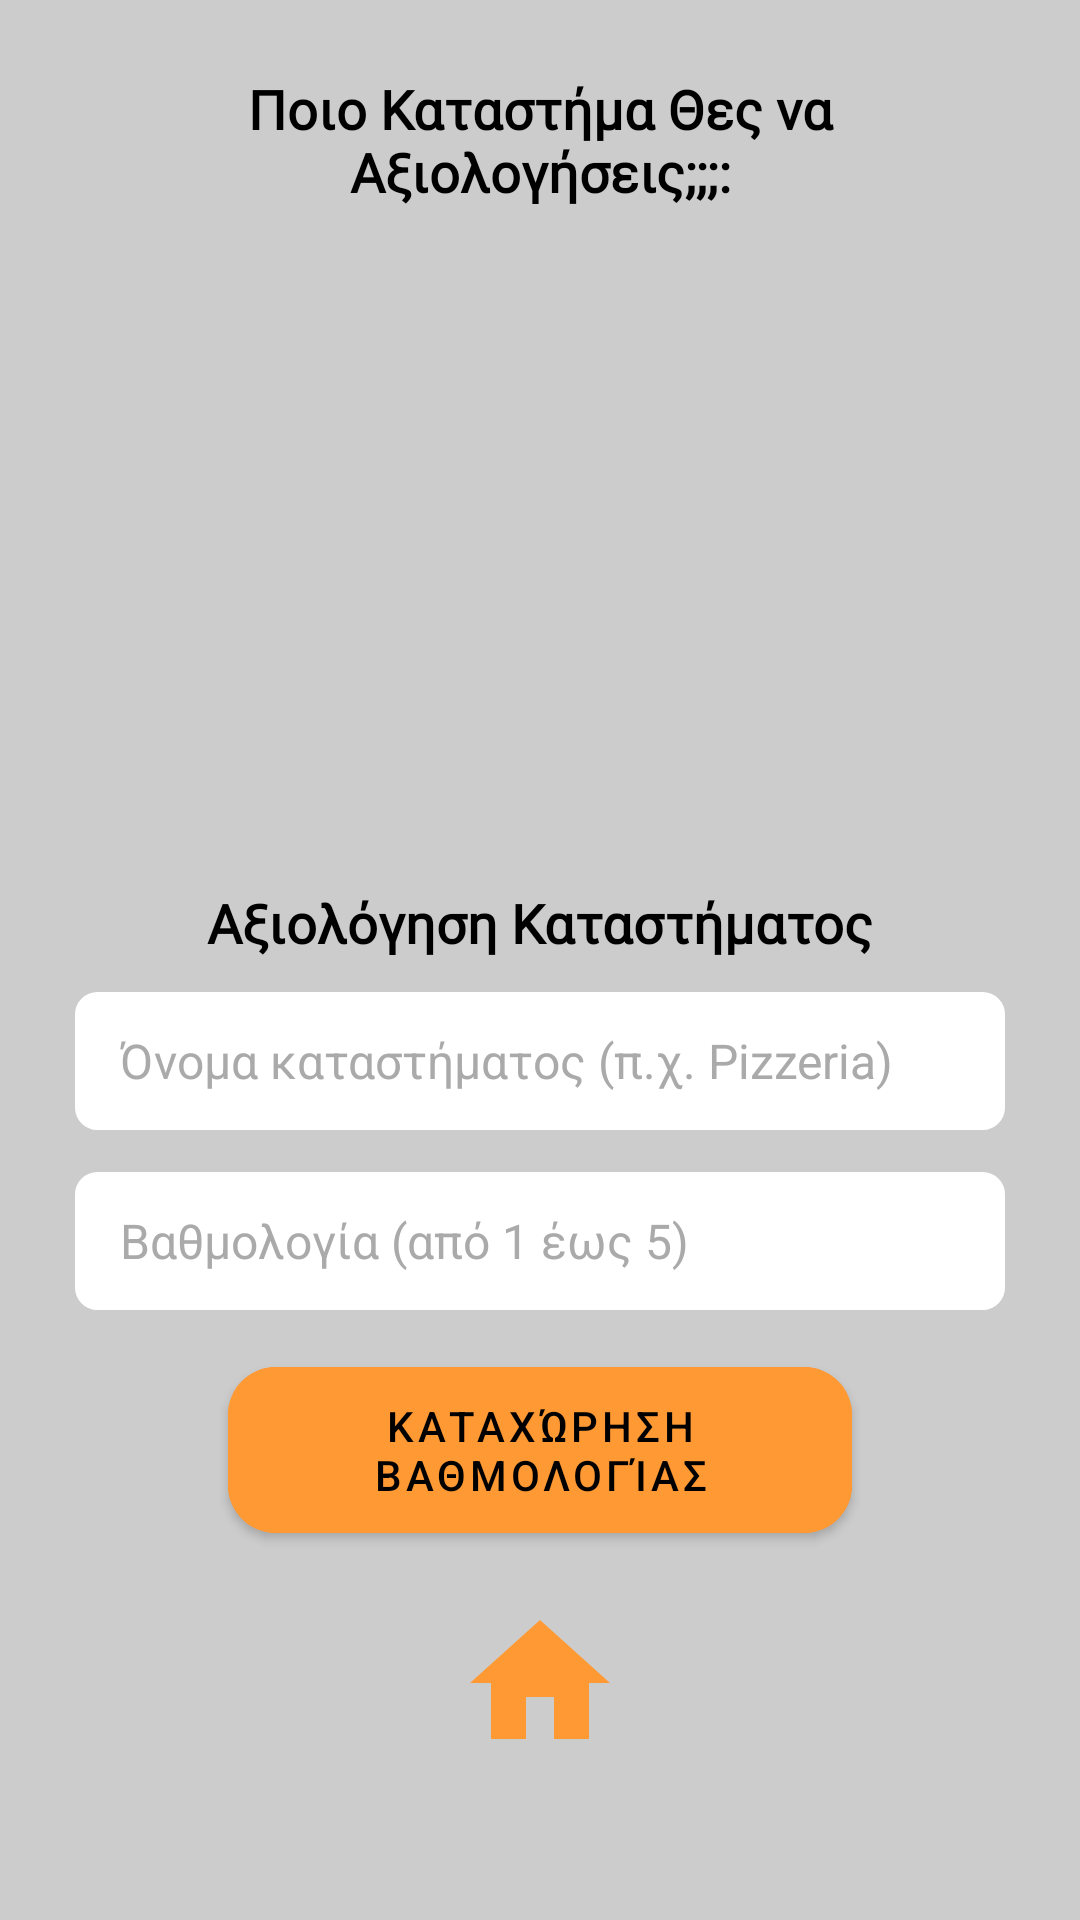

Icons on this 1080×1920 Android screen, each with the point to tap as (x,y):
Αρχική: (540,1679)
